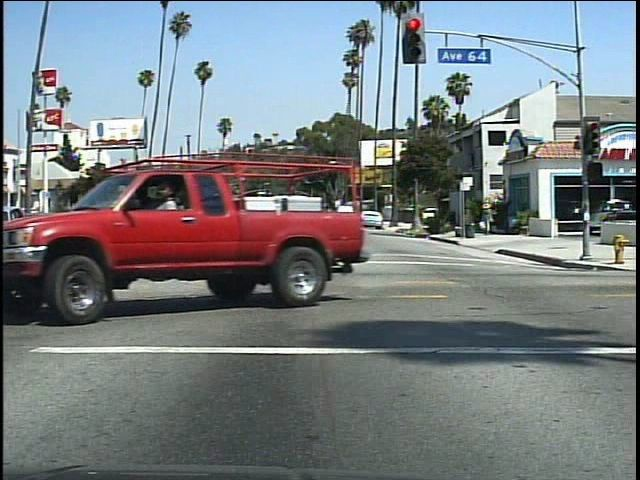person: (156, 176, 197, 305), (478, 199, 501, 237)
